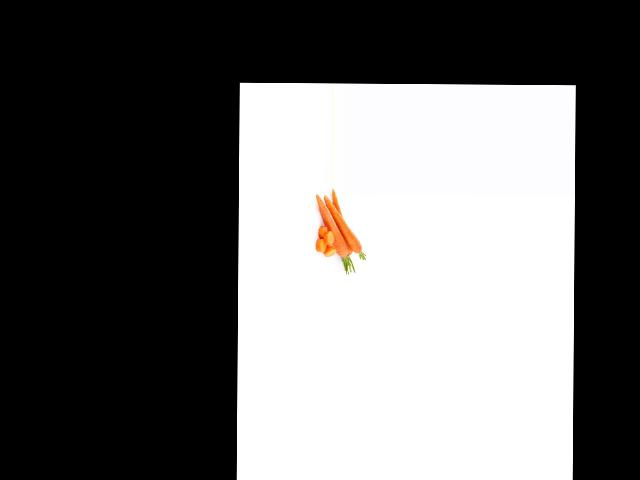carrot: (314, 193, 350, 262)
